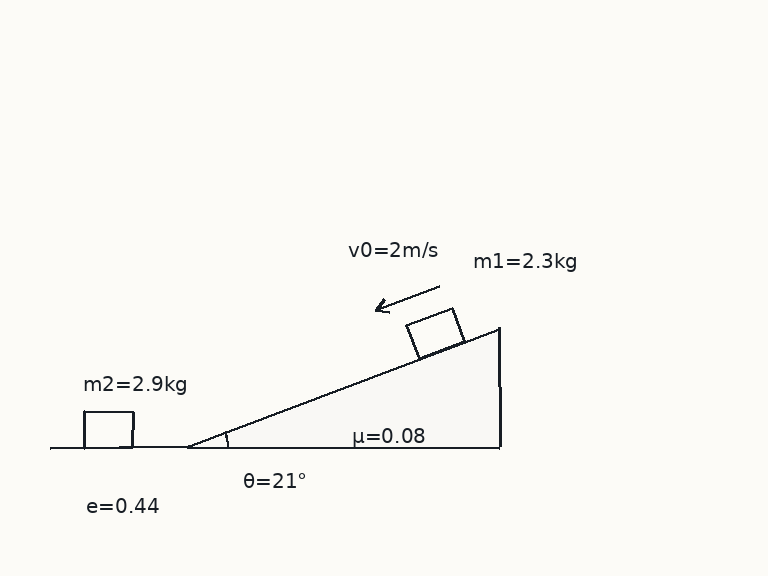block: (404, 305, 467, 360), (82, 409, 134, 449)
ramp: (186, 326, 501, 449)
